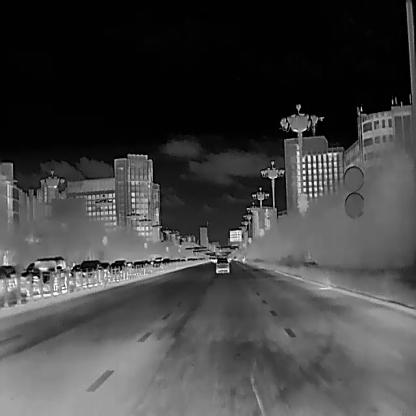car: (32, 255, 66, 293), (0, 264, 20, 302), (18, 270, 42, 298), (77, 260, 104, 284), (110, 262, 126, 280), (113, 259, 127, 279), (70, 264, 81, 284), (215, 257, 229, 272), (100, 262, 110, 280), (150, 257, 164, 267), (127, 260, 134, 274), (134, 260, 144, 268), (143, 259, 150, 268)
